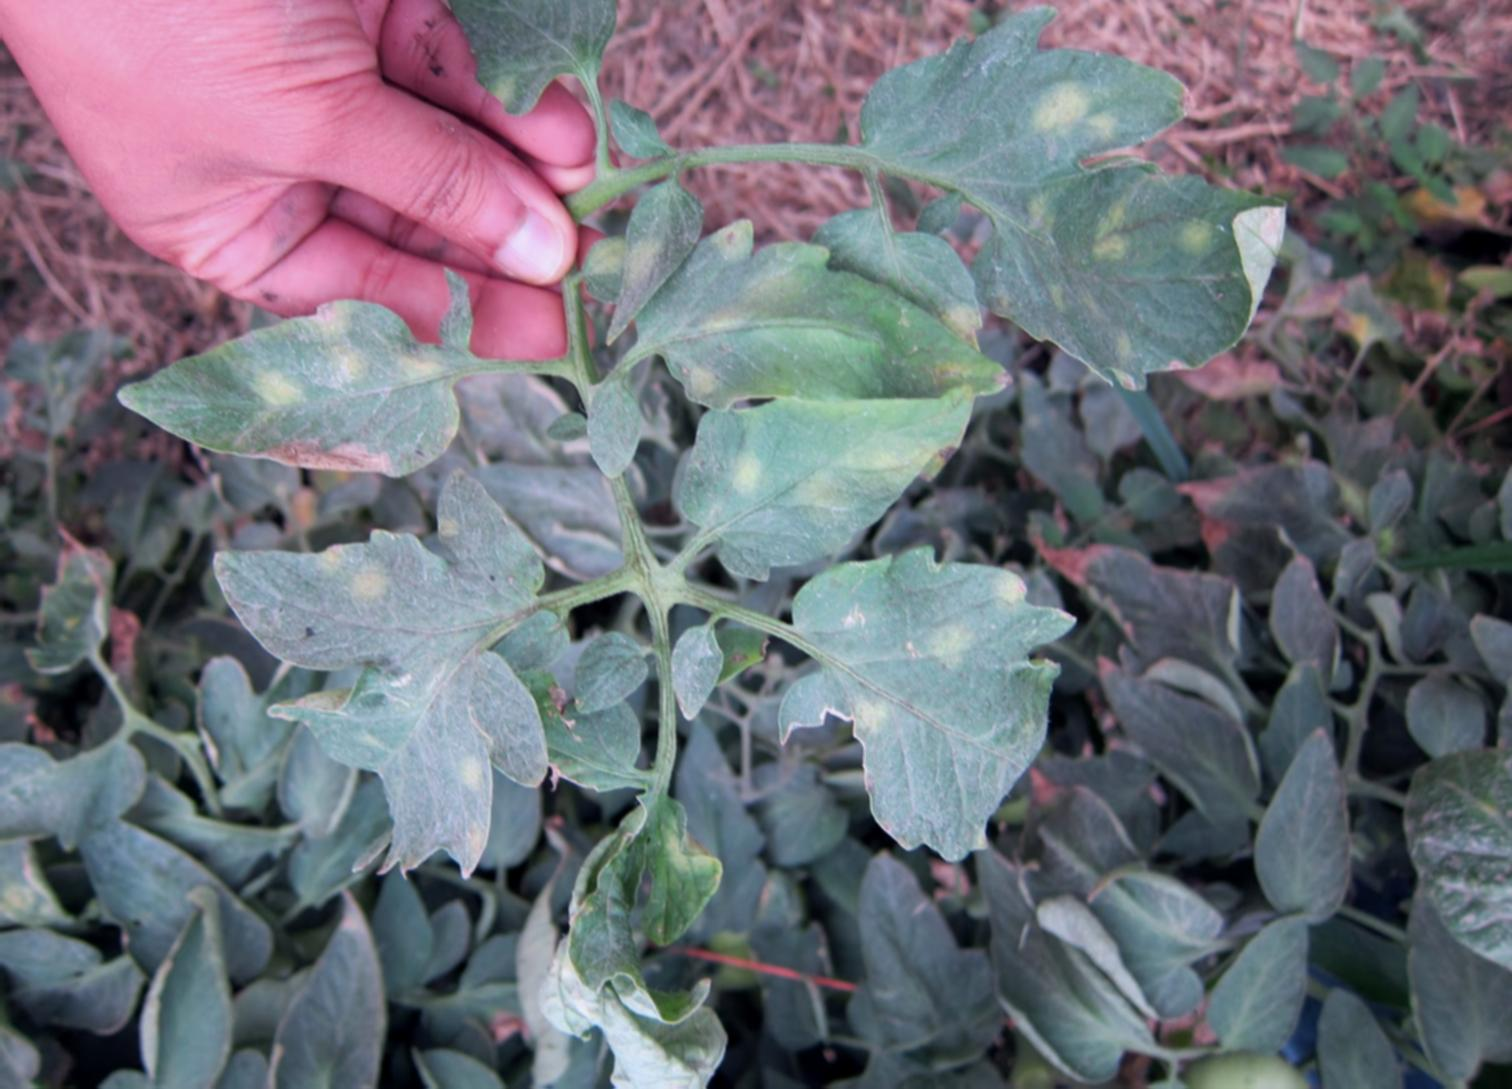Tomato mold leaf: (202, 488, 553, 894), (764, 544, 1080, 861), (96, 280, 473, 520), (966, 160, 1322, 412), (684, 298, 993, 583), (605, 187, 1025, 388), (805, 11, 1257, 195), (536, 799, 736, 1089), (419, 0, 634, 126)
